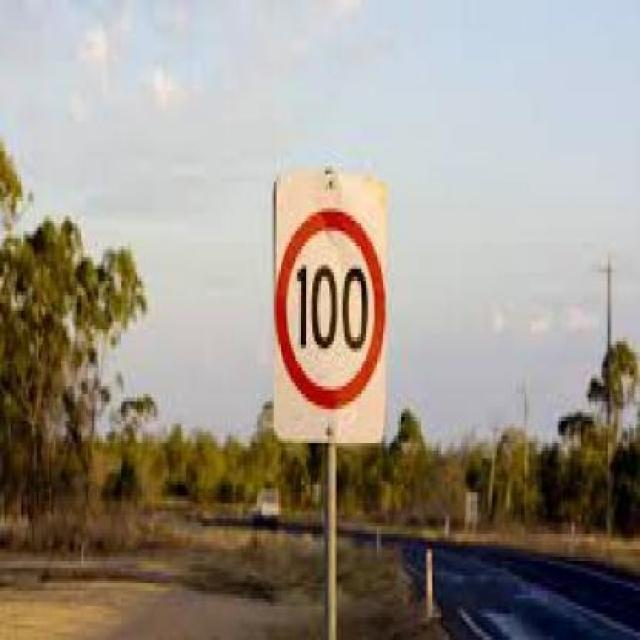forb_speed_over_100: (277, 209, 386, 408)
